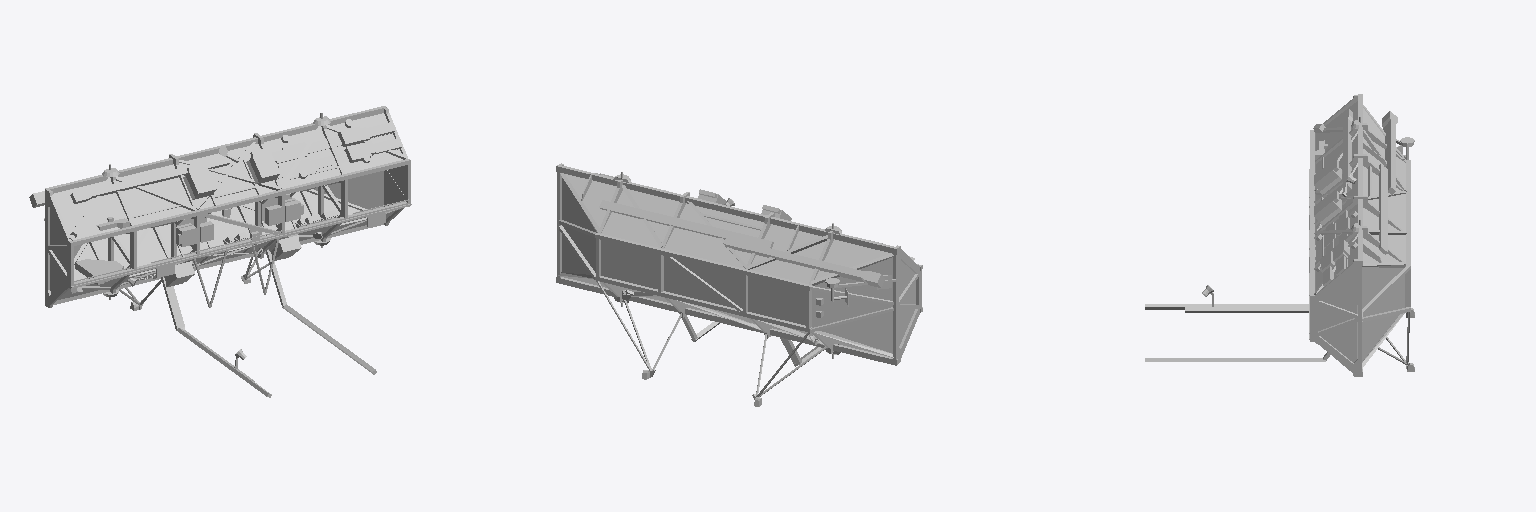
File: s0_ani_000.obj
3 renders of one model, left to right at view 1: azimuth 30°, elevation 25°; view 2: azimuth 150°, elevation 25°; view 3: azimuth 270°, elevation 25°, orthographic.
Bounding box in the file's own units: 1366 × 672 × 940.